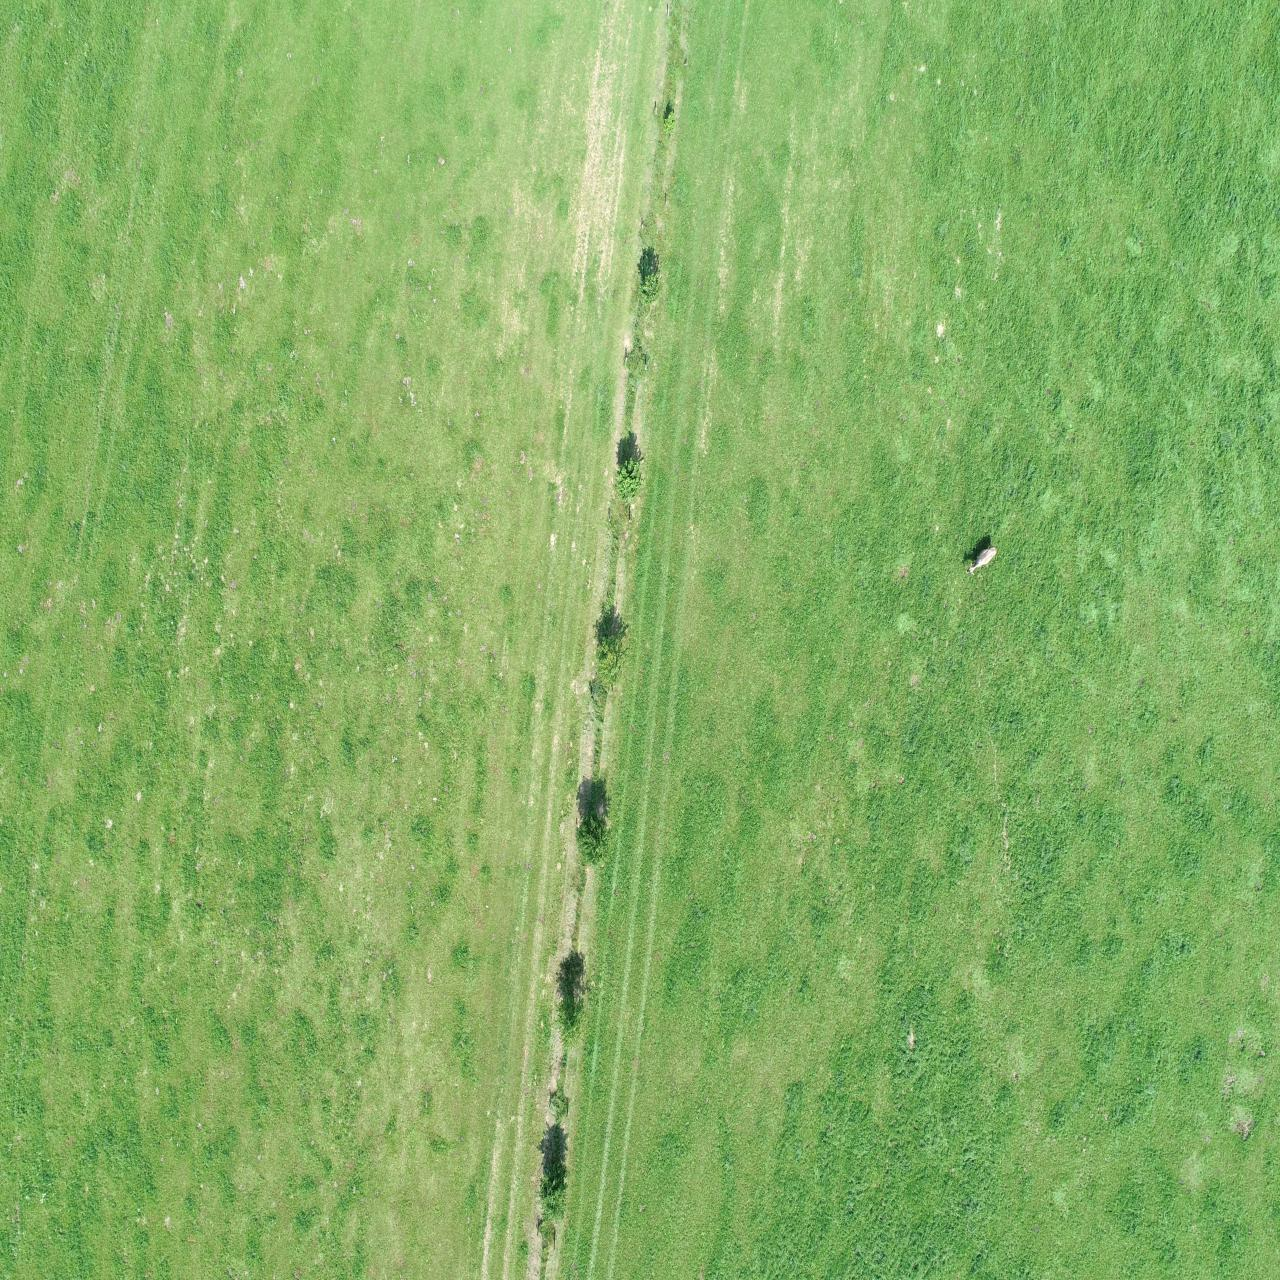cow: (965, 543, 999, 577)
